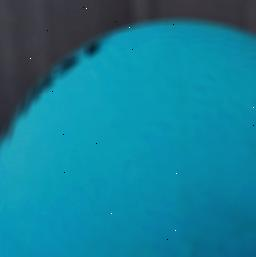algae: (0, 15, 256, 257)
